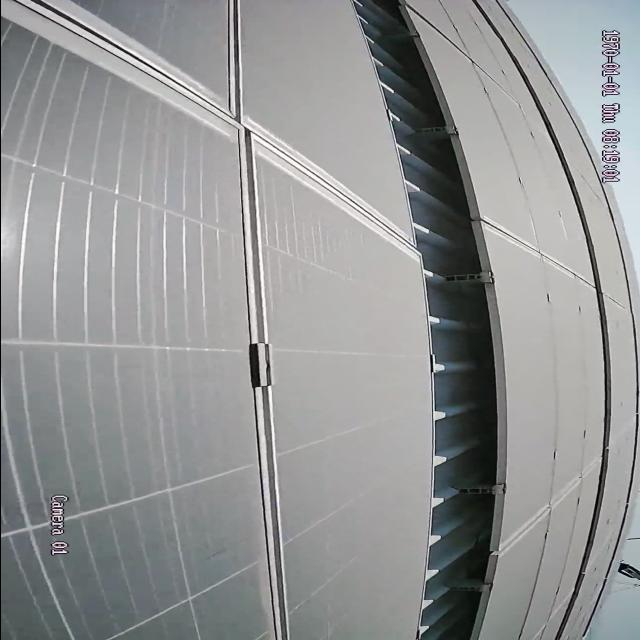interior panel: (3, 0, 399, 638), (415, 7, 518, 100), (506, 464, 585, 558), (489, 217, 587, 291)
outher panel: (349, 3, 500, 639)
